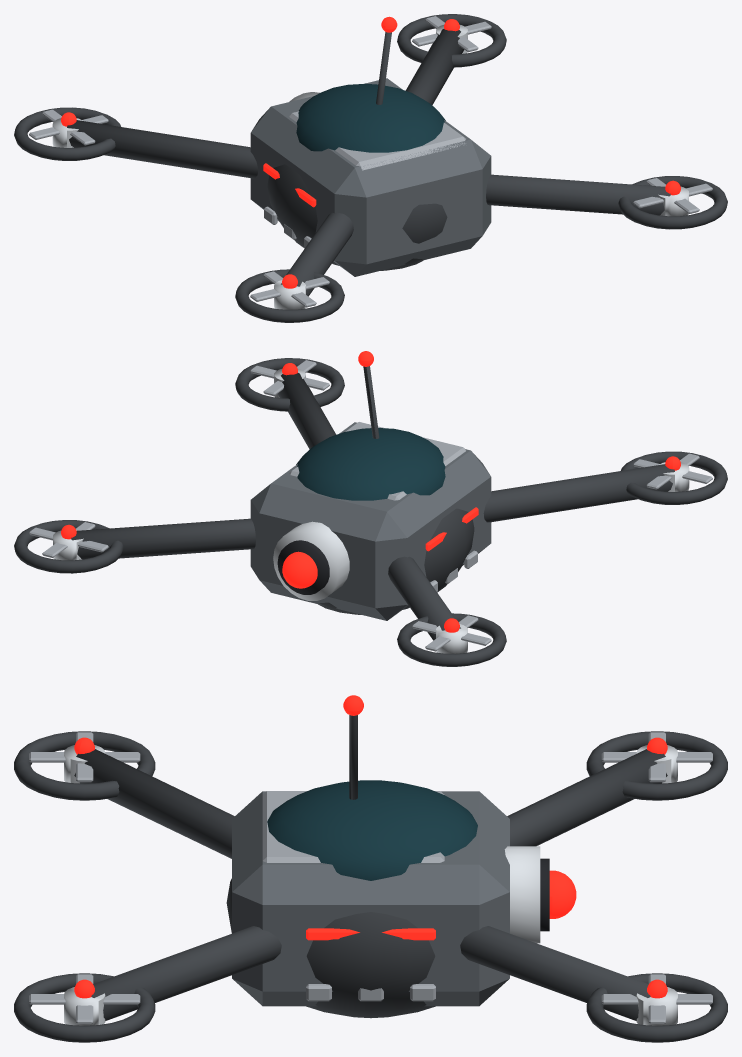
File: drone.glb
The picture shows the model from 3 angles, top to bottom: view 1: azimuth 30°, elevation 25°; view 2: azimuth 150°, elevation 25°; view 3: azimuth 270°, elevation 25°; orthographic projection. The views are drawn at different scales.
Visible parts, largest first — view 1: Drone; view 2: Drone; view 3: Drone.
Boxes of the visible parts, bbox=[...] form: Drone: bbox=[14, 14, 727, 322]; Drone: bbox=[14, 351, 727, 666]; Drone: bbox=[14, 695, 727, 1042].
Size of the model in its own units: 0.824 by 0.4002 by 0.8228.
